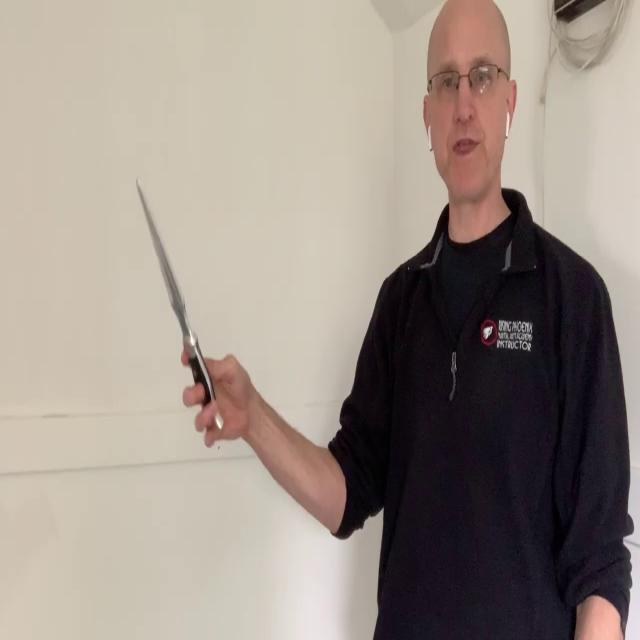Knife_Handle: (136, 175, 252, 451)
